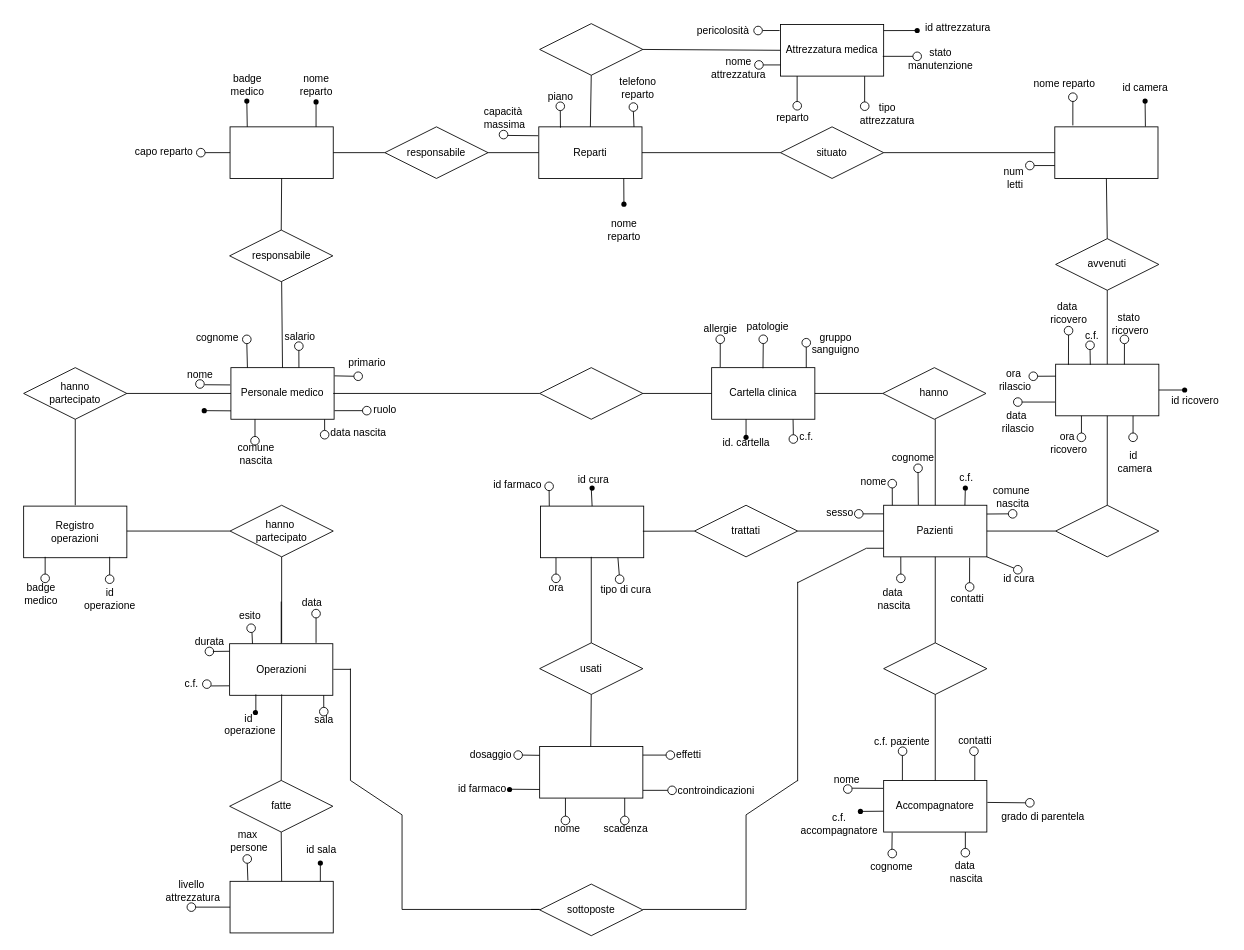
This 1244x950 diagram has some shape labels left out. Each missing label, with the centre of its shape:
"Accompagna" belongs at (x=935, y=668).
"badge" belongs at (x=204, y=410).
"Camere" belongs at (x=1106, y=152).
"Cure" belongs at (x=592, y=531).
"Farmaci" belongs at (x=591, y=772).
"medici reparti" belongs at (x=281, y=152).
"Ricoveri" belongs at (x=1107, y=389).
"Sale operatorie" belongs at (x=281, y=906).
"scritta/letta" belongs at (x=591, y=393).
"situate" belongs at (x=591, y=49).
"è stato" belongs at (x=1107, y=530).
